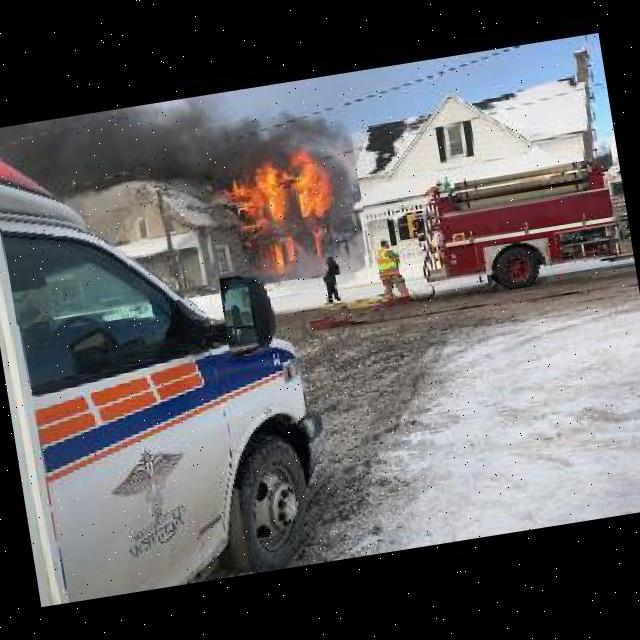fire: (0, 105, 373, 325)
